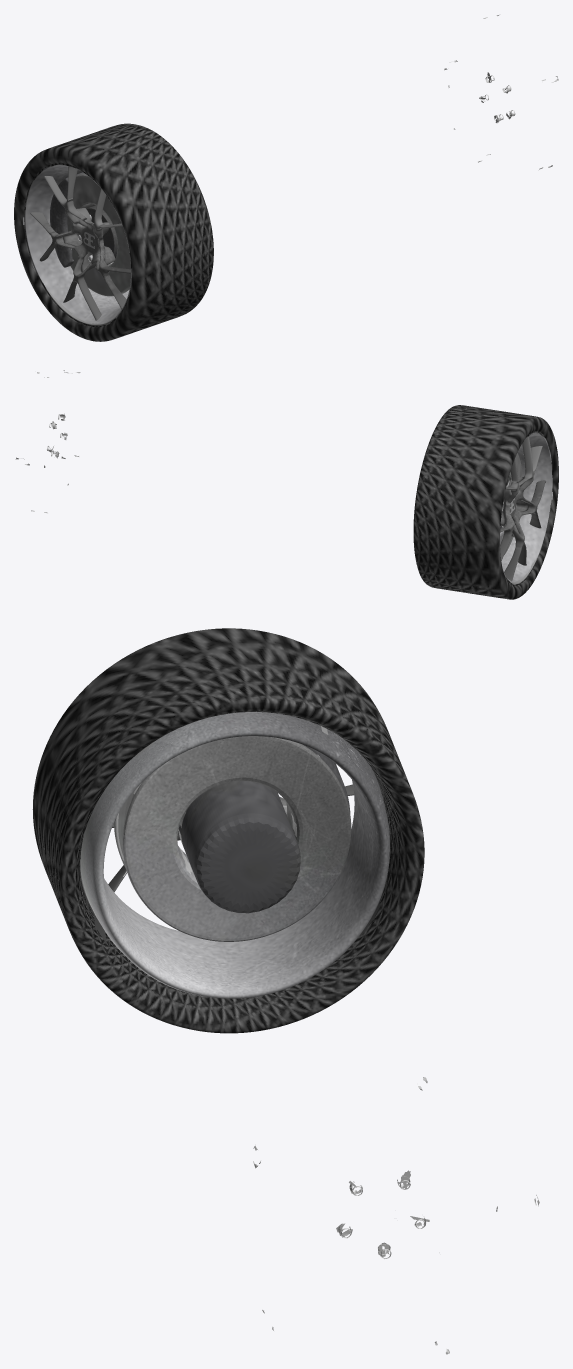
The model's file is Llanta_DT.obj.
3 views of the same model, one above another, from view 1: azimuth 30°, elevation 25°; view 2: azimuth 150°, elevation 25°; view 3: azimuth 270°, elevation 25° (orthographic). The views are drawn at different scales.
Parts seen in each view (by area): view 1: Cube.039; view 2: Cube.039; view 3: Cube.039.
Boxes of the visible parts, left/top/right/bottom form: Cube.039: left=14, top=15, right=558, bottom=341; Cube.039: left=15, top=370, right=558, bottom=599; Cube.039: left=32, top=628, right=539, bottom=1354.
Size of the model in its own units: 6.17 by 2.12 by 2.91.
